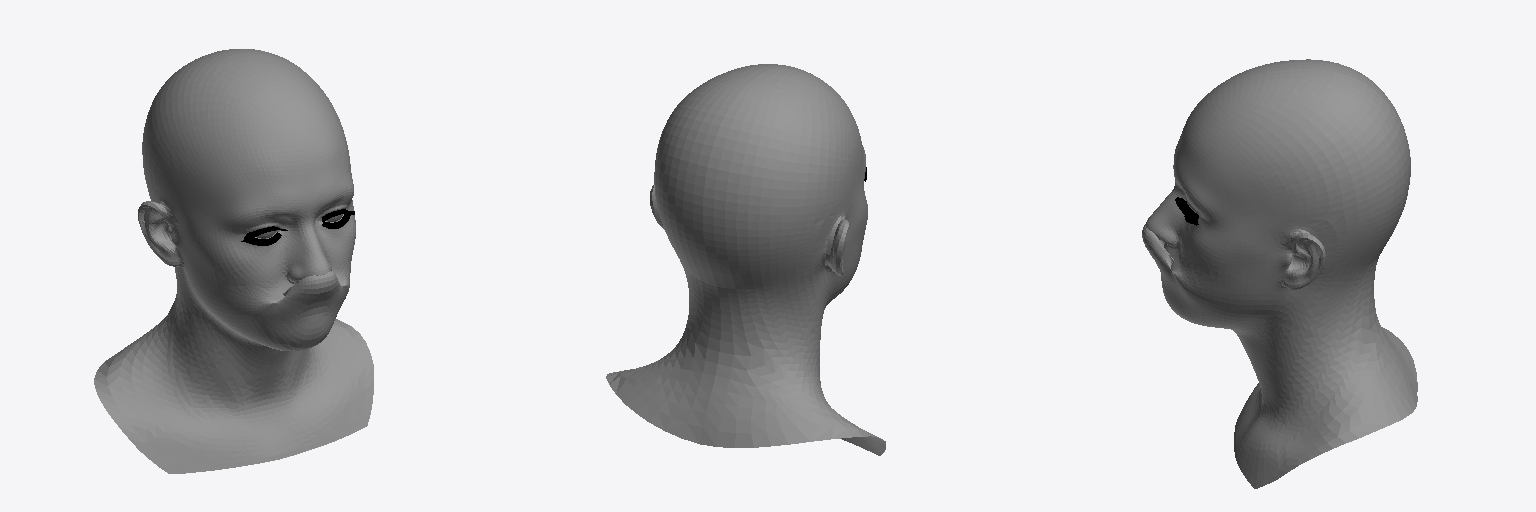
Rendered from mouthClose.obj.
3 renders of one model, left to right at view 1: azimuth 30°, elevation 25°; view 2: azimuth 150°, elevation 25°; view 3: azimuth 270°, elevation 25°, orthographic.
Size of the model in its own units: 24.83 by 33.81 by 22.55.